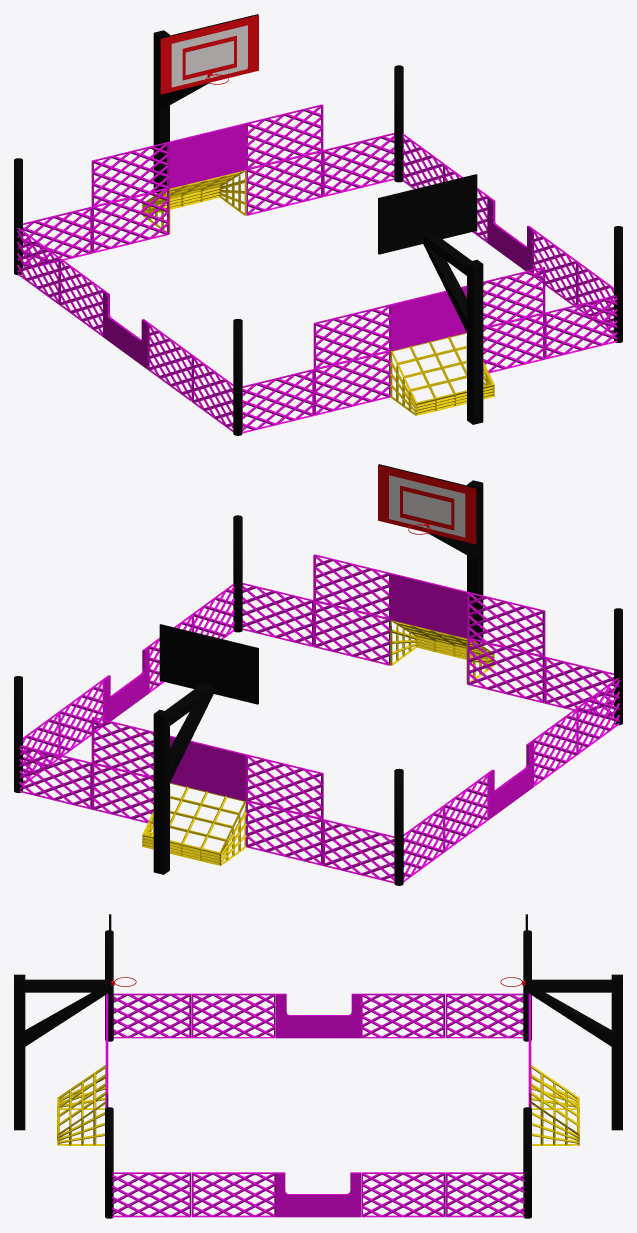
The model's file is soccer cage vlad is yes.fbx.
3 renders of one model, top to bottom at view 1: azimuth 30°, elevation 25°; view 2: azimuth 150°, elevation 25°; view 3: azimuth 270°, elevation 25°, orthographic. The views are drawn at different scales.
Parts seen in each view (by area): view 1: Cylinder, Cube.002, Cube.001; view 2: Cylinder, Cube.001, Cube.002; view 3: Cylinder, Cube.001, Cube.002.
Part boxes in pixels (bbox=[...]): Cylinder: bbox=[14, 65, 622, 435]; Cube.002: bbox=[378, 174, 483, 424]; Cube.001: bbox=[153, 14, 258, 193]; Cylinder: bbox=[14, 515, 622, 885]; Cube.001: bbox=[153, 624, 258, 874]; Cube.002: bbox=[378, 464, 483, 643]; Cylinder: bbox=[57, 930, 579, 1218]; Cube.001: bbox=[500, 914, 622, 1130]; Cube.002: bbox=[14, 914, 136, 1130].
Bounding box in the file's own units: 1768 × 873 × 2517.
